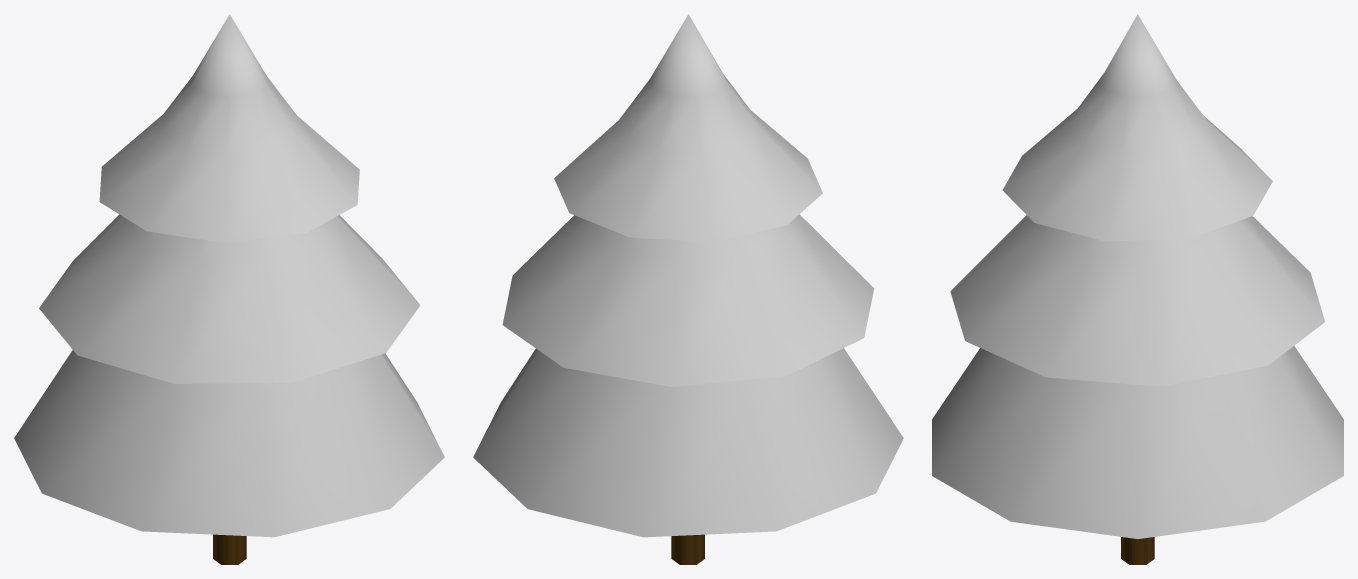
File: mod_prop_tree_pine_1.fbx
3 renders of one model, left to right at view 1: azimuth 30°, elevation 25°; view 2: azimuth 150°, elevation 25°; view 3: azimuth 270°, elevation 25°, orthographic.
Visible parts, largest first — view 1: mod_prop_tree_pine_1; view 2: mod_prop_tree_pine_1; view 3: mod_prop_tree_pine_1.
Boxes of the visible parts, <box> form: mod_prop_tree_pine_1: <box>14,14,444,564</box>; mod_prop_tree_pine_1: <box>473,14,903,564</box>; mod_prop_tree_pine_1: <box>932,14,1343,564</box>.
Bounding box in the file's own units: 239 × 331 × 227.
